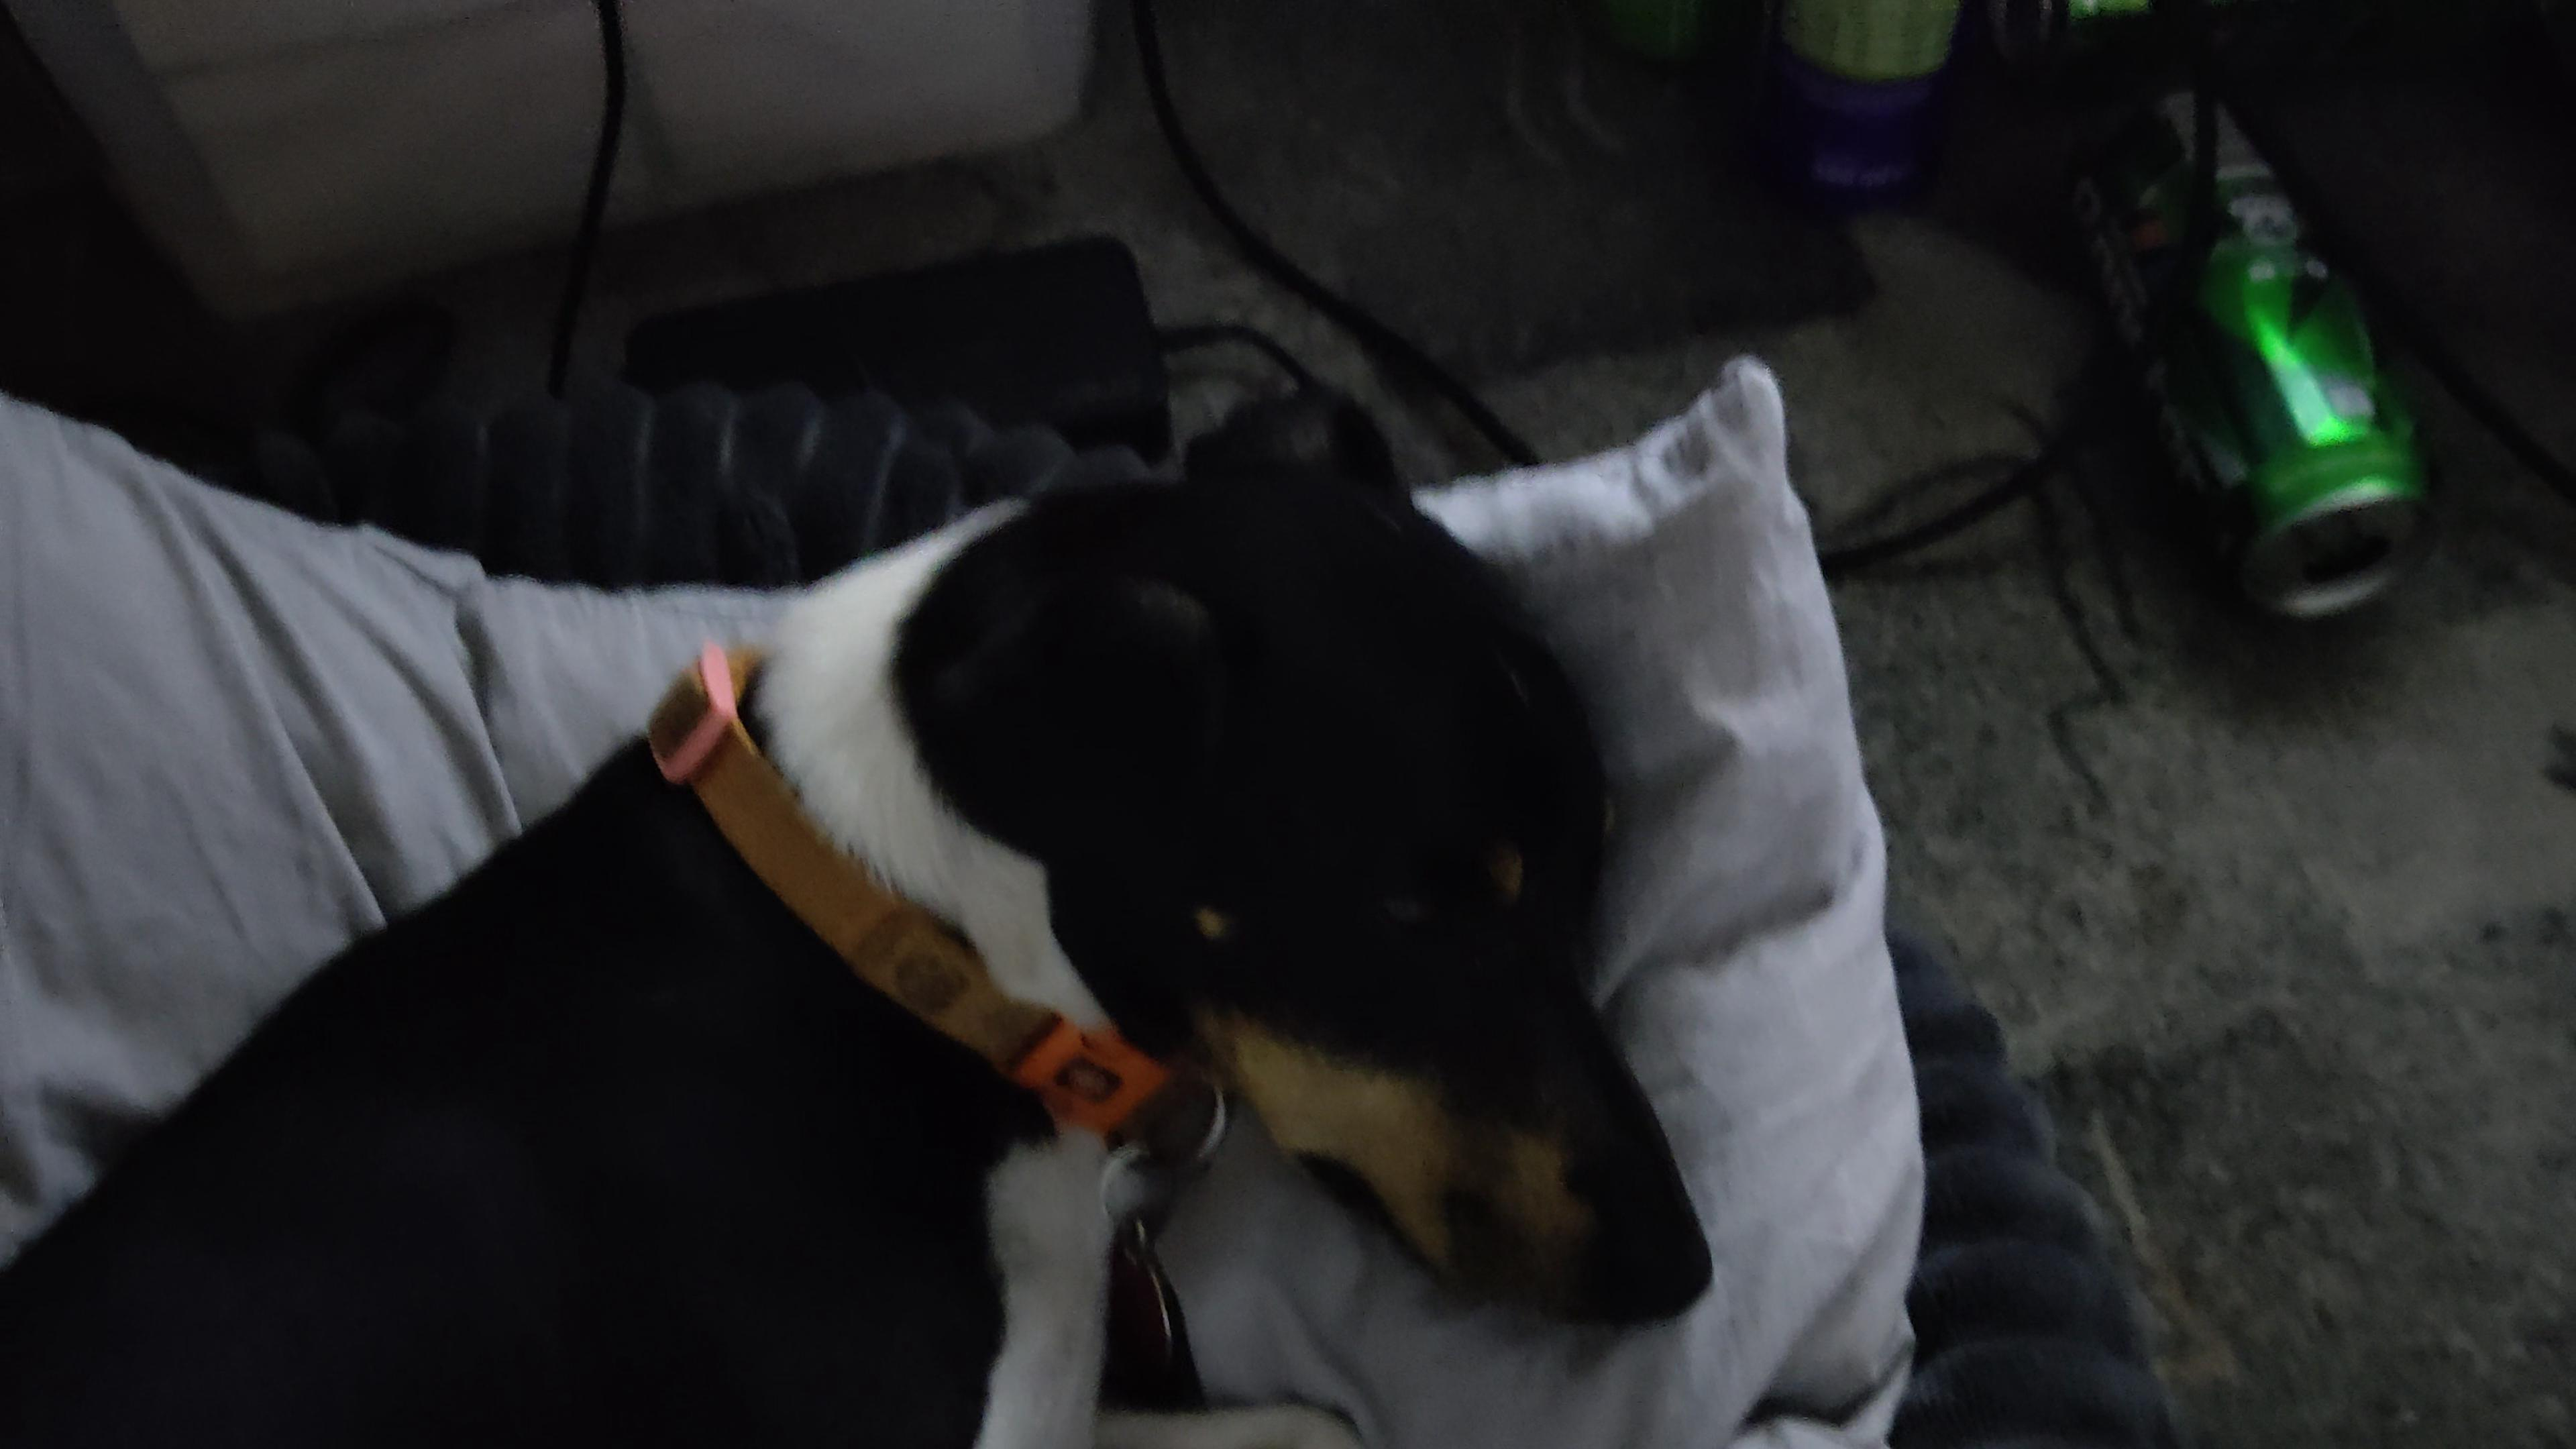Dog: (0, 366, 1739, 1449)
